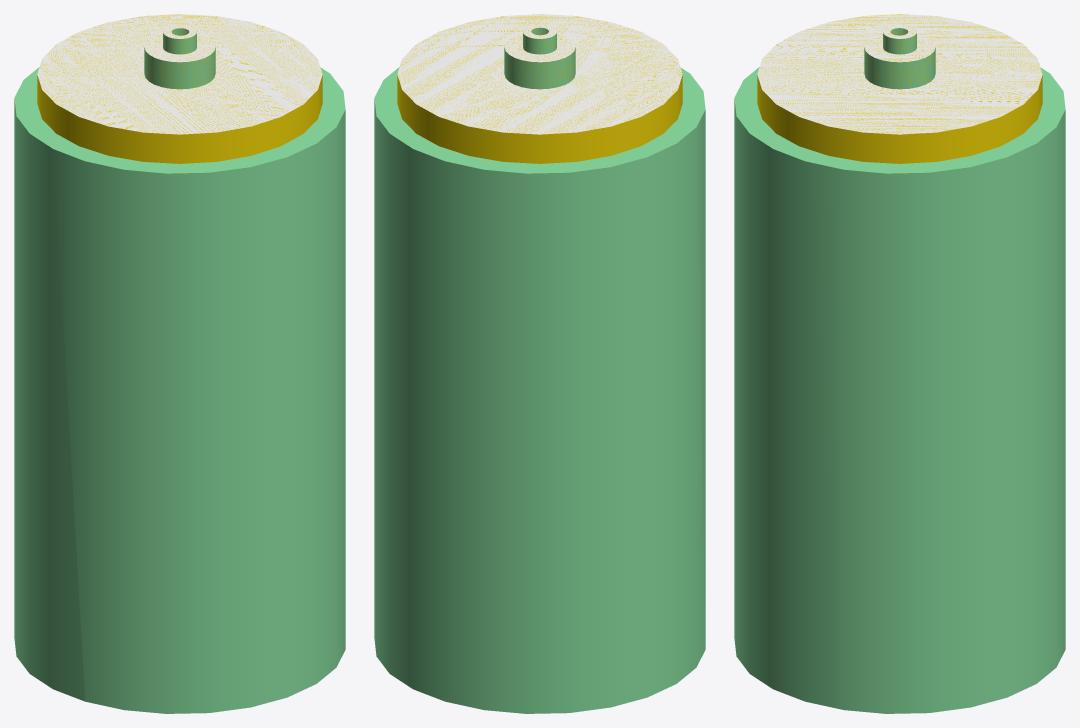
File: bottle.dae
3 renders of one model, left to right at view 1: azimuth 30°, elevation 25°; view 2: azimuth 150°, elevation 25°; view 3: azimuth 270°, elevation 25°, orthographic.
Visible parts, largest first — view 1: SketchUp; view 2: SketchUp; view 3: SketchUp.
Boxes of the visible parts, bbox=[...] form: SketchUp: bbox=[14, 14, 345, 713]; SketchUp: bbox=[374, 14, 705, 713]; SketchUp: bbox=[734, 14, 1065, 713].
Size of the model in its own units: 0.829 by 0.829 by 1.69.
